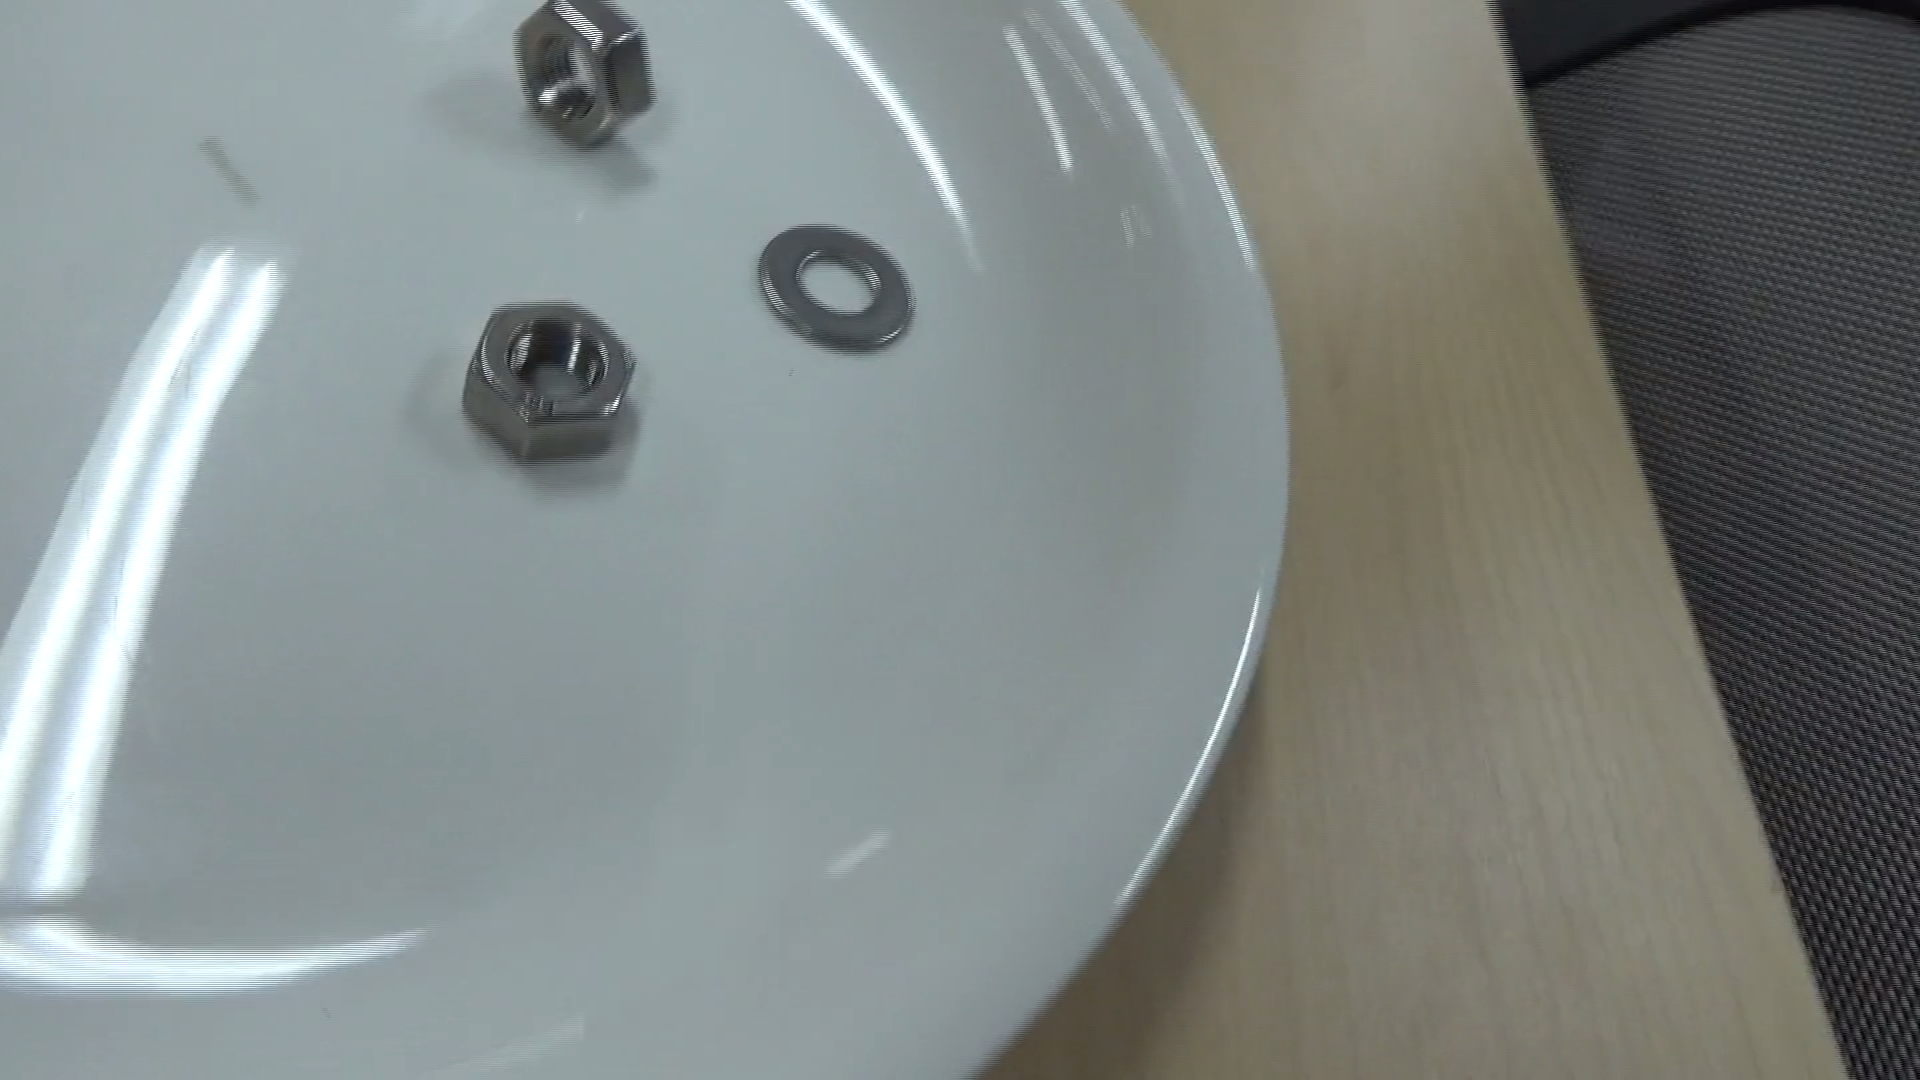nut: (458, 295, 638, 465), (516, 0, 658, 158)
washer: (750, 223, 919, 353)
